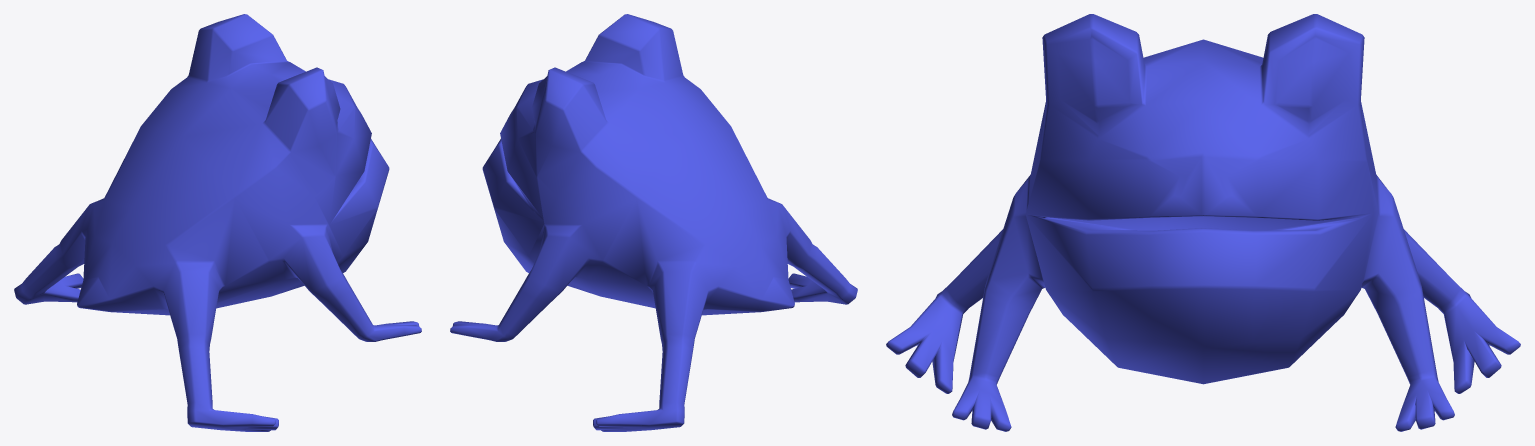
The model's file is kurbaga.fbx.
The picture shows the model from 3 angles, left to right: view 1: azimuth 30°, elevation 25°; view 2: azimuth 150°, elevation 25°; view 3: azimuth 270°, elevation 25°; orthographic projection. The views are drawn at different scales.
Visible parts, largest first — view 1: kurbağa; view 2: kurbağa; view 3: kurbağa.
Boxes of the visible parts, x1=… form: kurbağa: x1=14, y1=14, x2=421, y2=431; kurbağa: x1=450, y1=14, x2=857, y2=431; kurbağa: x1=886, y1=14, x2=1520, y2=431.
Bounding box in the file's own units: 1.56 × 1.49 × 1.95.
